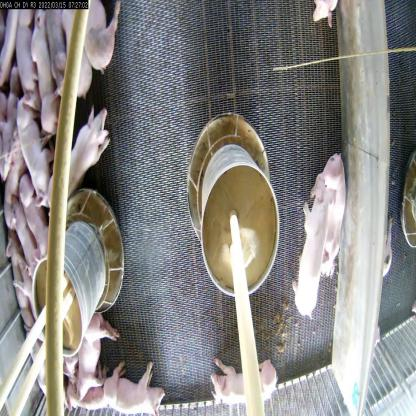Pig: (46, 108, 117, 215), (12, 98, 59, 212), (294, 180, 327, 322), (22, 10, 58, 134), (316, 151, 346, 292), (74, 309, 116, 407), (64, 7, 126, 71), (207, 355, 272, 412), (101, 359, 164, 415), (7, 210, 47, 298), (2, 239, 39, 332), (22, 187, 54, 264)
